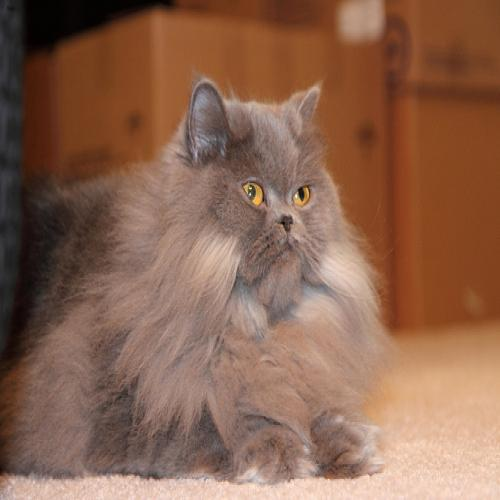persian: (178, 67, 347, 326)
